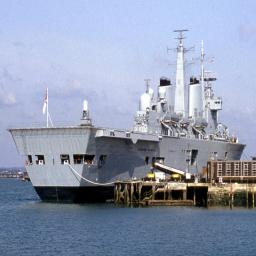Portanaves: (4, 23, 252, 207)
